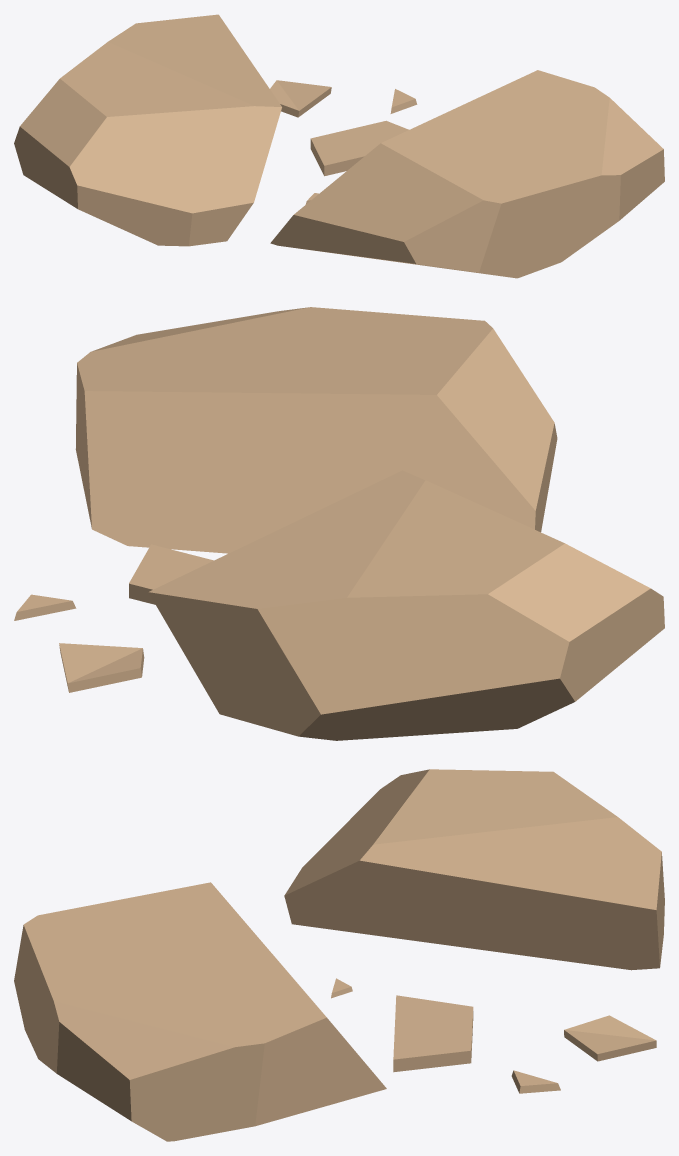
The model's file is Rock_Flat_crk_m_01.fbx.
The picture shows the model from 3 angles, top to bottom: view 1: azimuth 30°, elevation 25°; view 2: azimuth 150°, elevation 25°; view 3: azimuth 270°, elevation 25°; orthographic projection. The views are drawn at different scales.
Parts seen in each view (by area): view 1: Rock_Flat_crk_m_01; view 2: Rock_Flat_crk_m_01; view 3: Rock_Flat_crk_m_01.
Part boxes in pixels (box(x1,y1,x2,y2)): Rock_Flat_crk_m_01: box(14, 14, 664, 278); Rock_Flat_crk_m_01: box(14, 307, 664, 740); Rock_Flat_crk_m_01: box(14, 769, 664, 1141).
Size of the model in its own units: 192 by 38.92 by 185.
